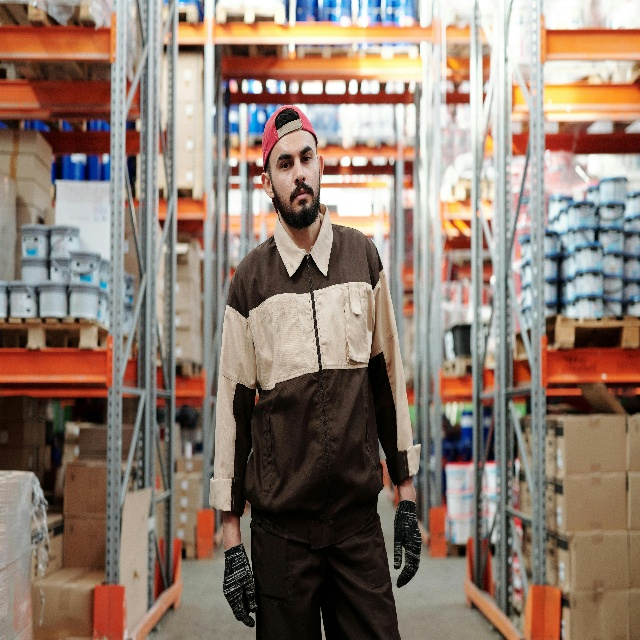Guantes: (222, 540, 259, 630), (393, 499, 422, 589)
